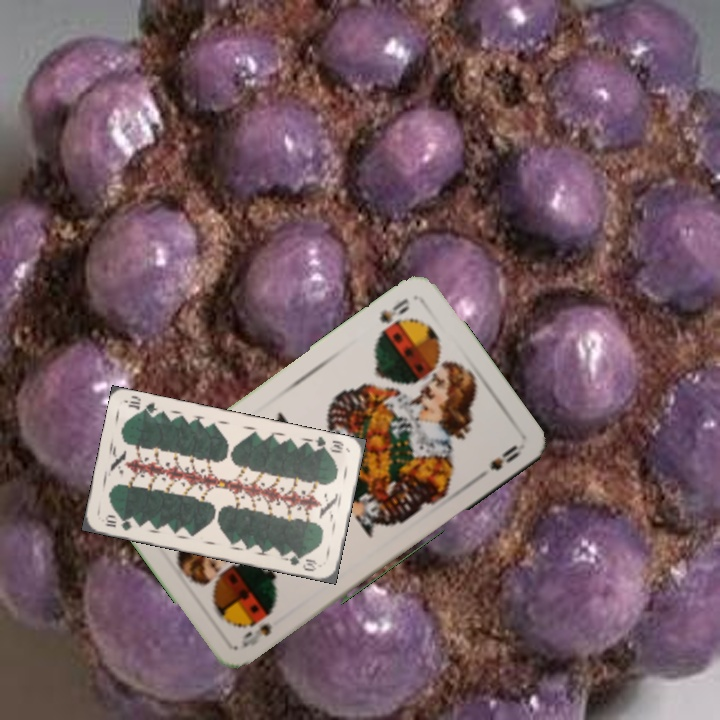G10: (311, 432, 346, 456), (101, 511, 135, 533)
SO: (375, 294, 413, 338), (237, 619, 275, 650)
